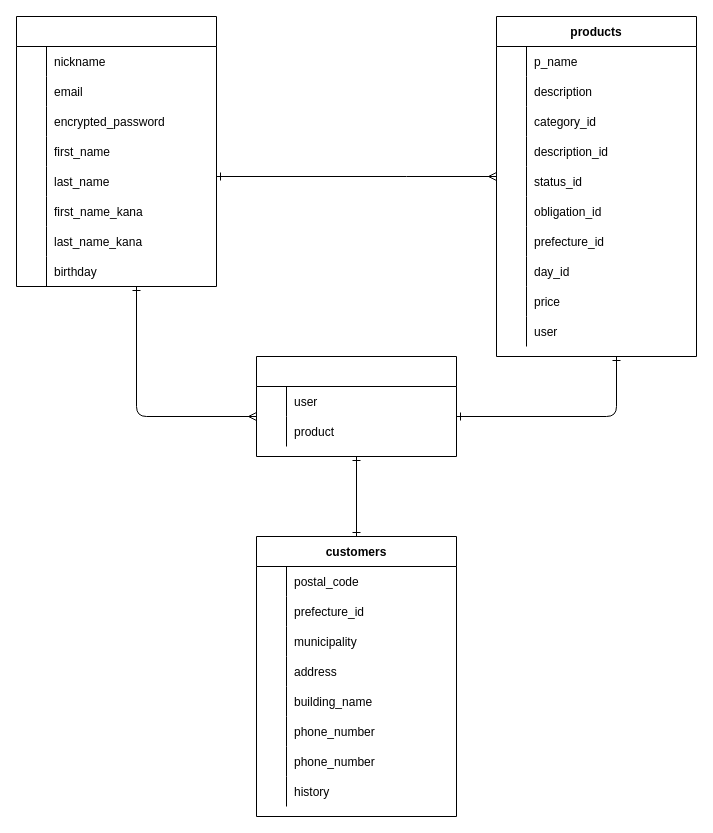
Some shapes in this 713 by 833 pixel diagram are drawn without their labels. Here are the shapes that lost their labels. From the top down, the box of each, then its label:
(16, 16, 216, 286): users
(256, 356, 456, 456): histories
